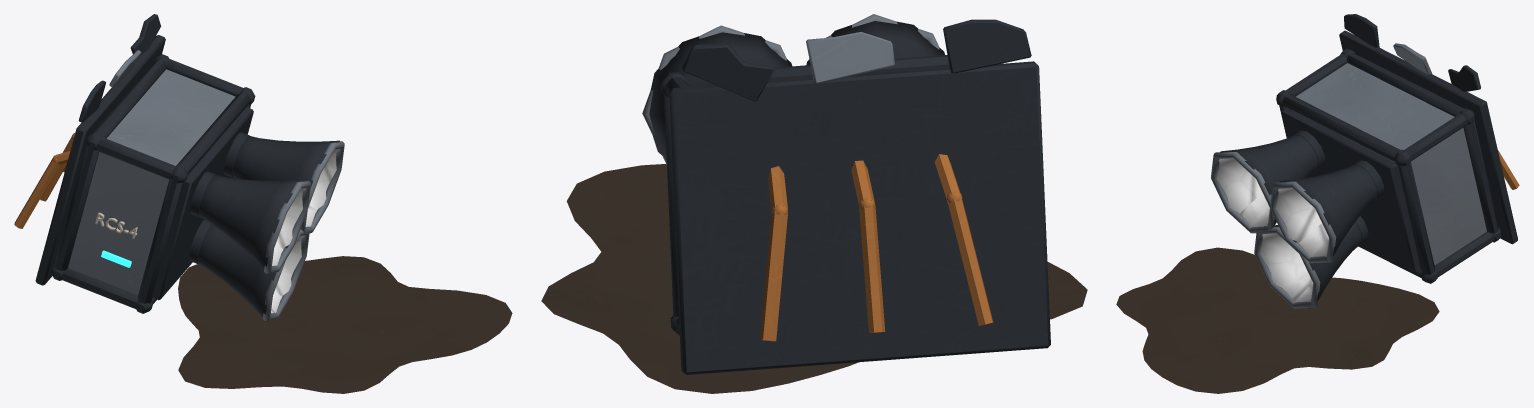
File: thruster_cluster.glb
The picture shows the model from 3 angles, left to right: view 1: azimuth 30°, elevation 25°; view 2: azimuth 150°, elevation 25°; view 3: azimuth 270°, elevation 25°; orthographic projection. The views are drawn at different scales.
Visible parts, largest first — view 1: thruster_cluster; view 2: thruster_cluster; view 3: thruster_cluster.
Boxes of the visible parts, x1,y1,x2,y2 form: thruster_cluster: [14, 14, 512, 393]; thruster_cluster: [541, 14, 1087, 393]; thruster_cluster: [1116, 14, 1519, 393].
Bounding box in the file's own units: 2.53 × 1.52 × 2.45.
7 materials, 6 textured.
